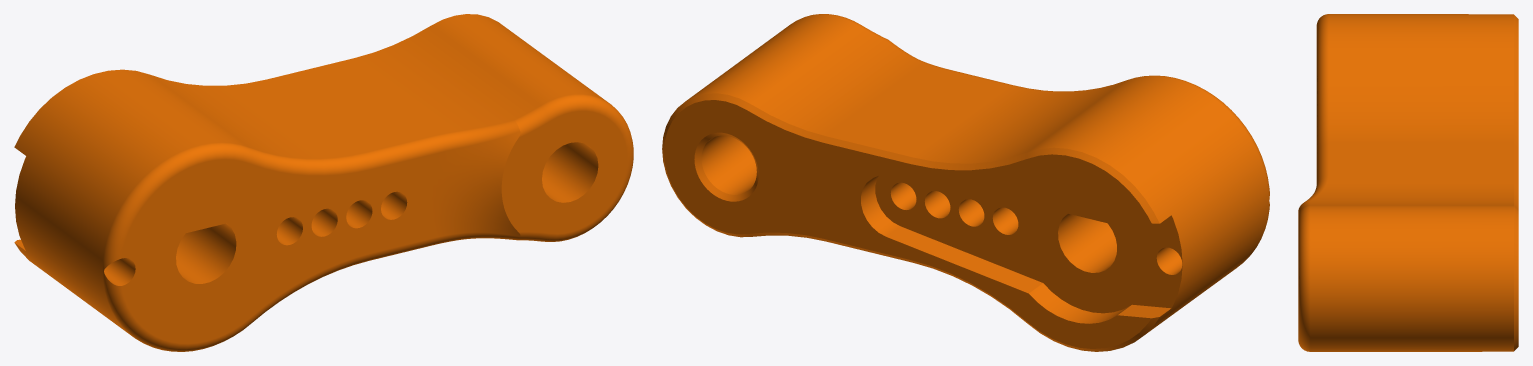
The model's file is Crank.glb.
The picture shows the model from 3 angles, left to right: view 1: azimuth 30°, elevation 25°; view 2: azimuth 150°, elevation 25°; view 3: azimuth 270°, elevation 25°; orthographic projection. The views are drawn at different scales.
Visible parts, largest first — view 1: Crank; view 2: Crank; view 3: Crank.
Boxes of the visible parts, x1,y1,x2,y2 form: Crank: [14, 14, 633, 351]; Crank: [662, 14, 1269, 351]; Crank: [1298, 14, 1518, 351].
Bounding box in the file's own units: 0.0455 × 0.017 × 0.018.
